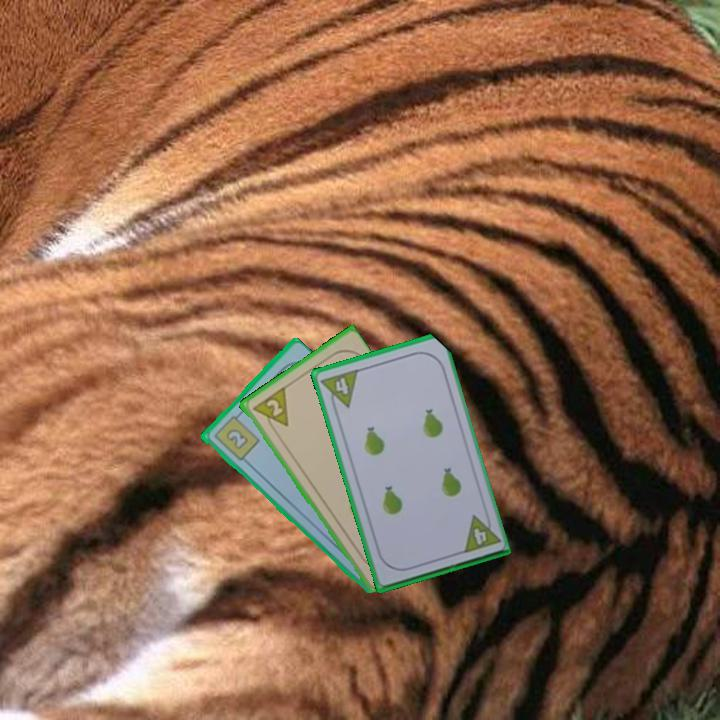2b: (210, 409, 262, 463)
2p: (248, 384, 291, 437)
4p: (317, 366, 361, 414), (459, 509, 502, 556)
